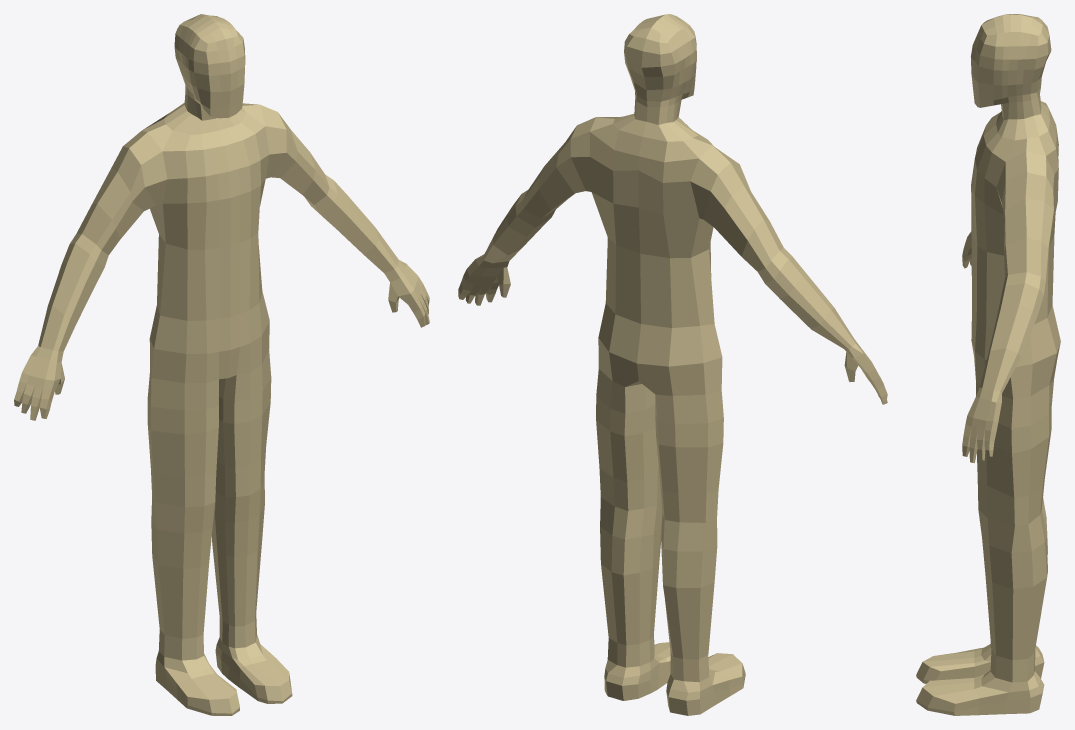
The model's file is npc_male.fbx.
3 renders of one model, left to right at view 1: azimuth 30°, elevation 25°; view 2: azimuth 150°, elevation 25°; view 3: azimuth 270°, elevation 25°, orthographic. The views are drawn at different scales.
Parts seen in each view (by area): view 1: male; view 2: male; view 3: male.
Part boxes in pixels (<box>): male: <box>14,14,429,715</box>; male: <box>458,14,887,715</box>; male: <box>916,14,1060,715</box>.
Bounding box in the file's own units: 132 × 200 × 38.8.
